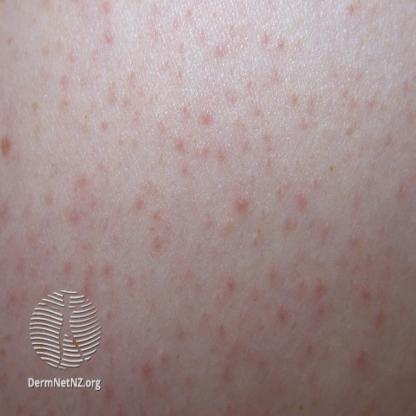Chicken Skin: (1, 2, 416, 286)
